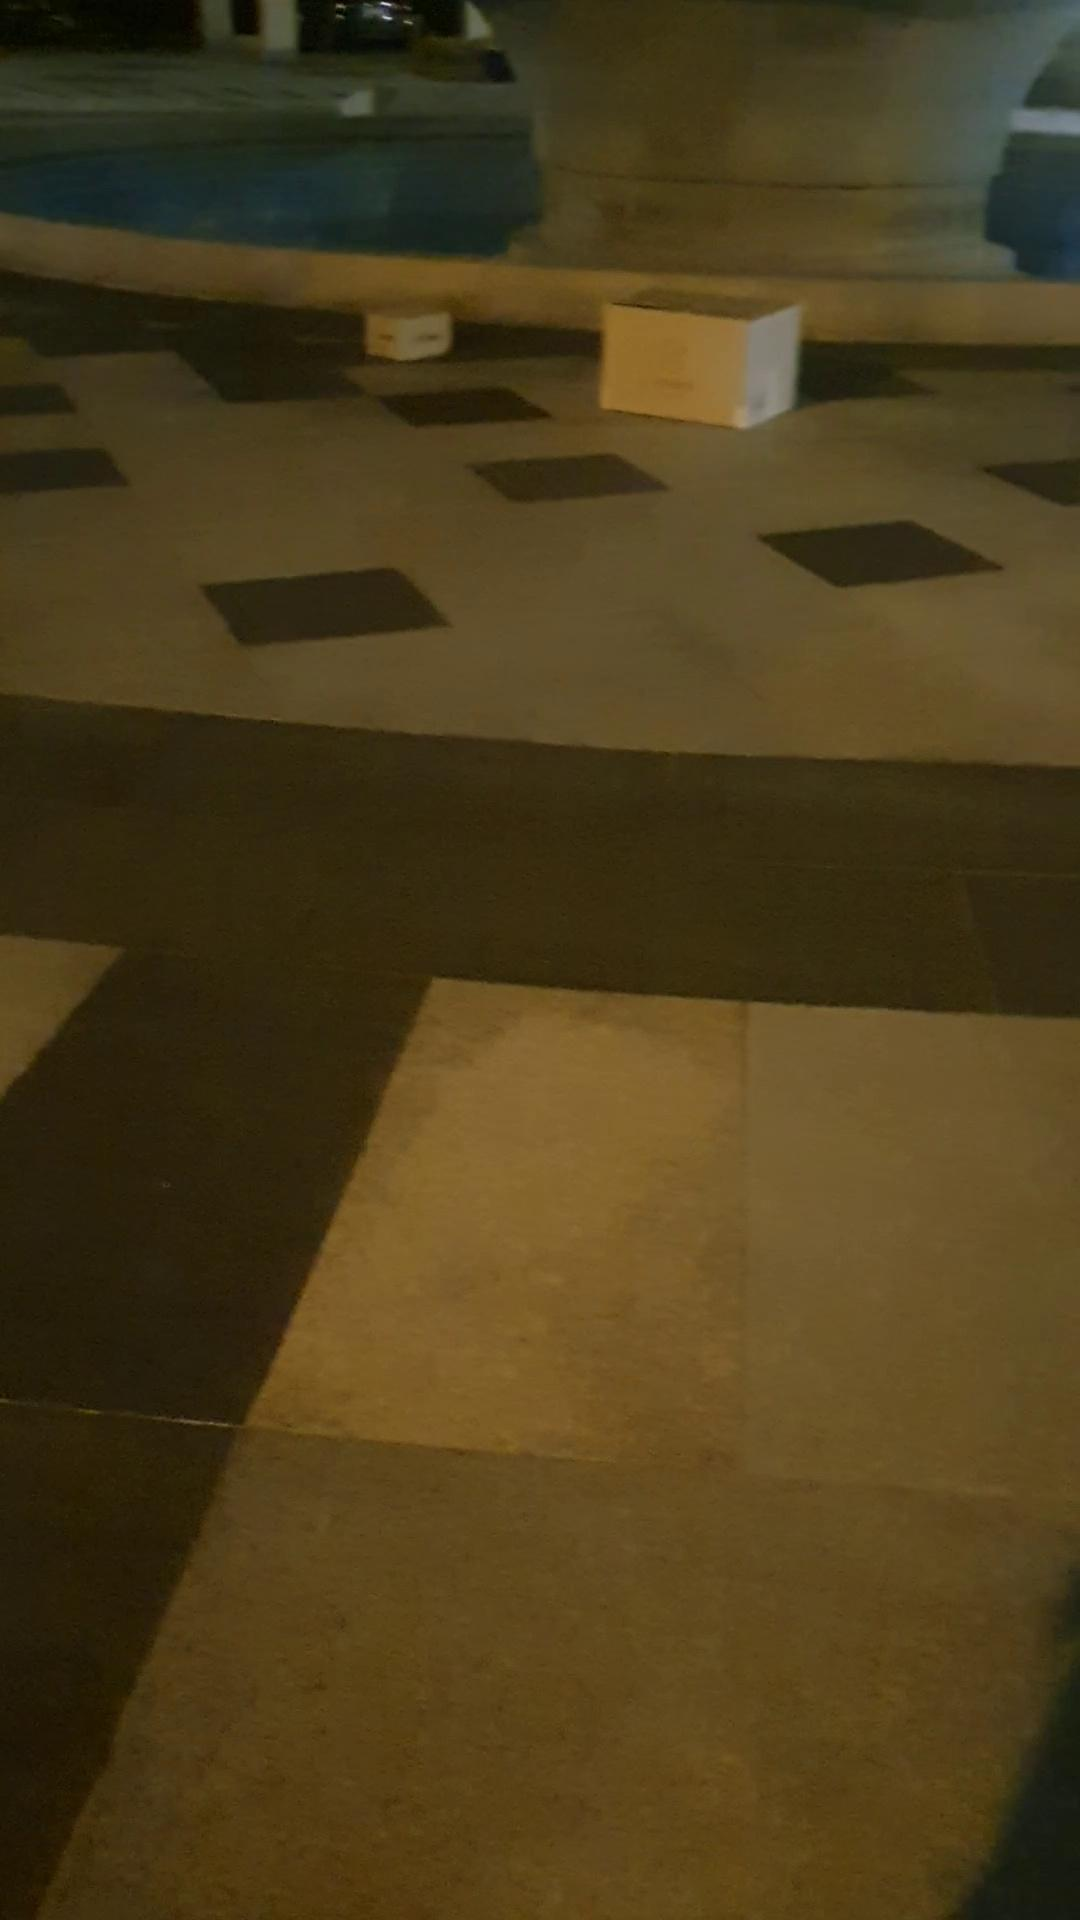Box: (574, 270, 824, 447), (336, 278, 454, 365)
